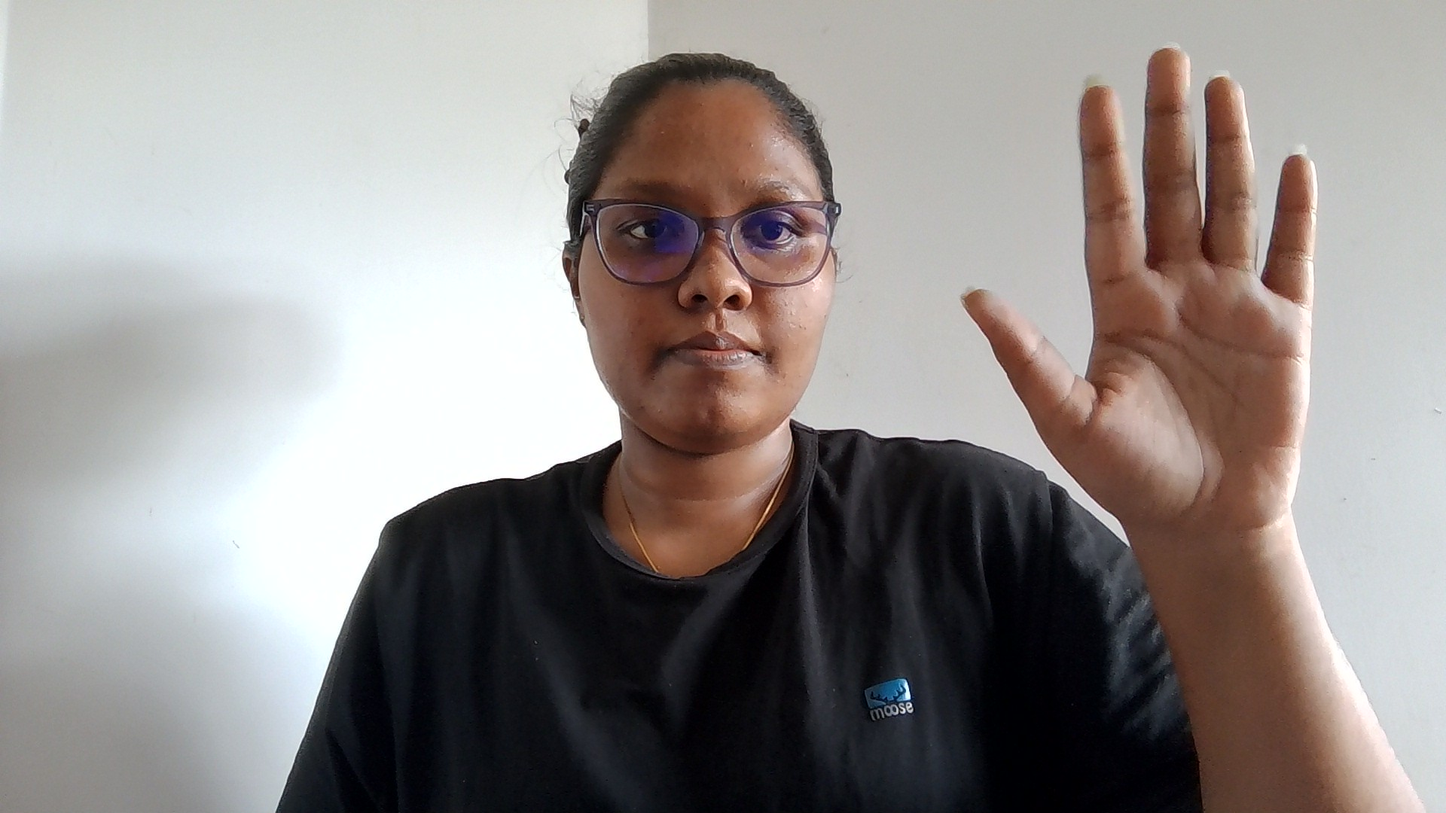Hello: (955, 29, 1398, 633)
